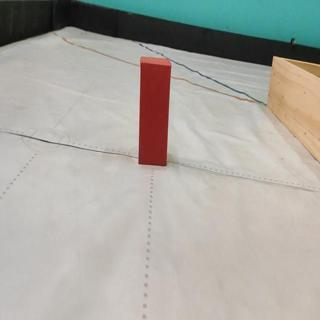redbox: (139, 54, 170, 165)
